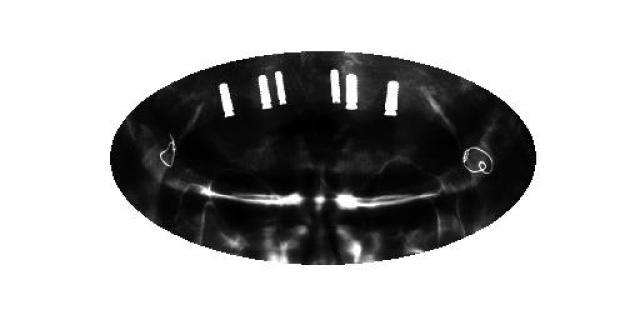Implant: (384, 76, 401, 122), (219, 81, 236, 119), (344, 72, 360, 112), (275, 69, 290, 110), (256, 74, 272, 112), (330, 68, 341, 109)
